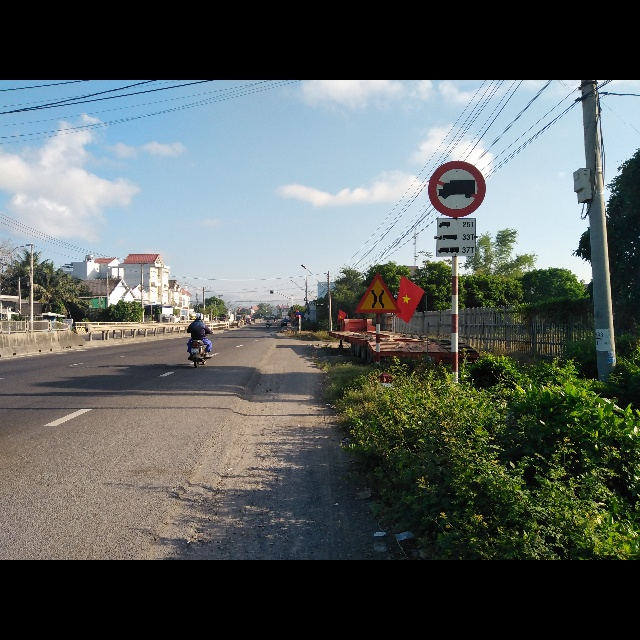Cấm xe tải: (426, 160, 487, 219)
Cầu hẹp: (354, 269, 400, 313)
